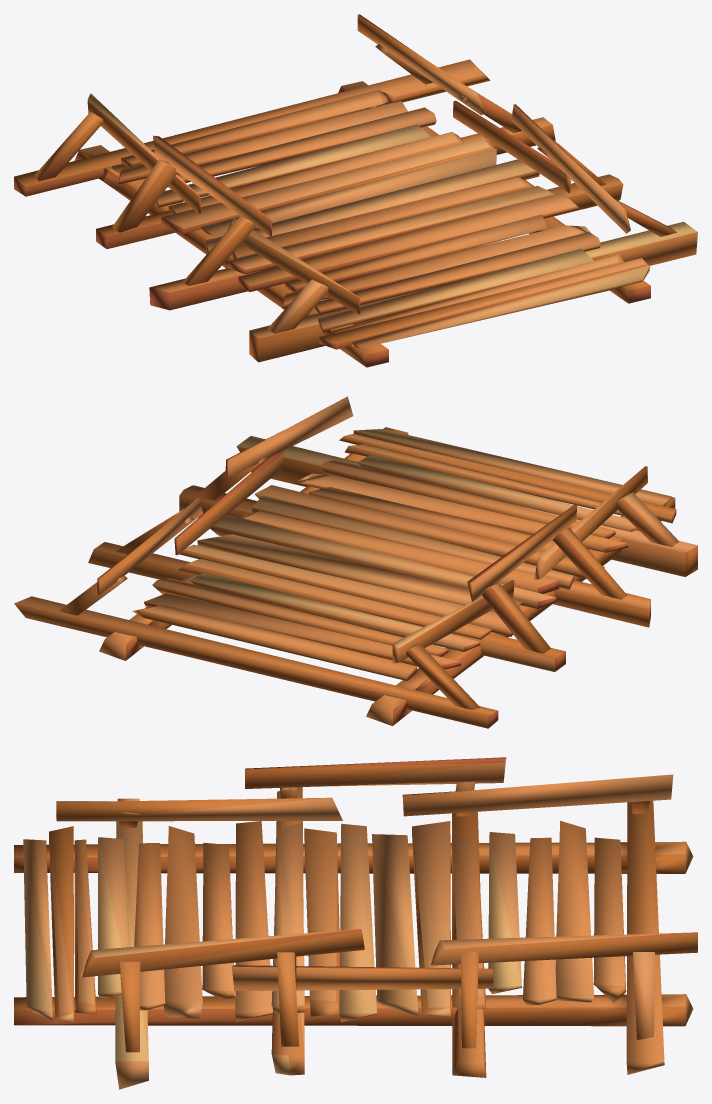
Rendered from GL-Manmade-14.fbx.
3 renders of one model, top to bottom at view 1: azimuth 30°, elevation 25°; view 2: azimuth 150°, elevation 25°; view 3: azimuth 270°, elevation 25°, orthographic. The views are drawn at different scales.
Parts seen in each view (by area): view 1: GL-Manmade-14; view 2: GL-Manmade-14; view 3: GL-Manmade-14.
Boxes of the visible parts, left/top/right/bottom form: GL-Manmade-14: left=14, top=14, right=697, bottom=367; GL-Manmade-14: left=14, top=396, right=697, bottom=728; GL-Manmade-14: left=14, top=757, right=697, bottom=1089.
Bounding box in the file's own units: 2.17 × 0.4147 × 2.26.
